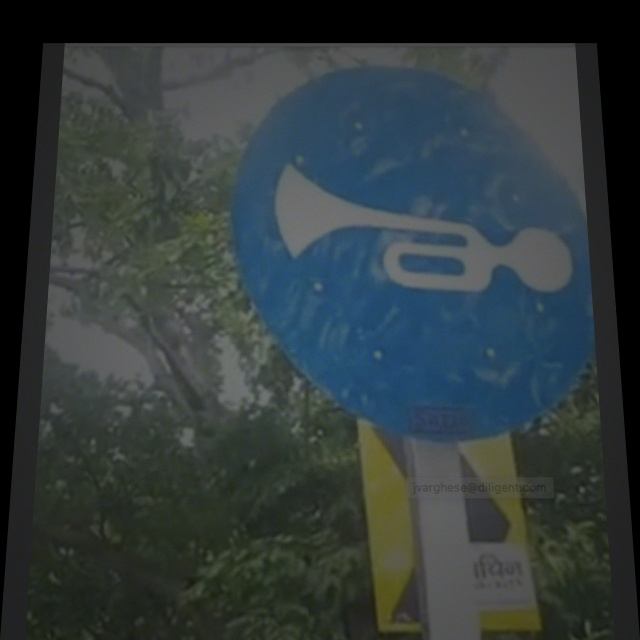Compulsory_Sound_Horn: (239, 103, 588, 393)
